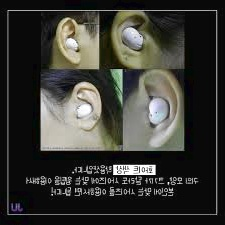earphone: (141, 69, 181, 148), (110, 11, 148, 69), (70, 82, 103, 131), (56, 17, 82, 63)
